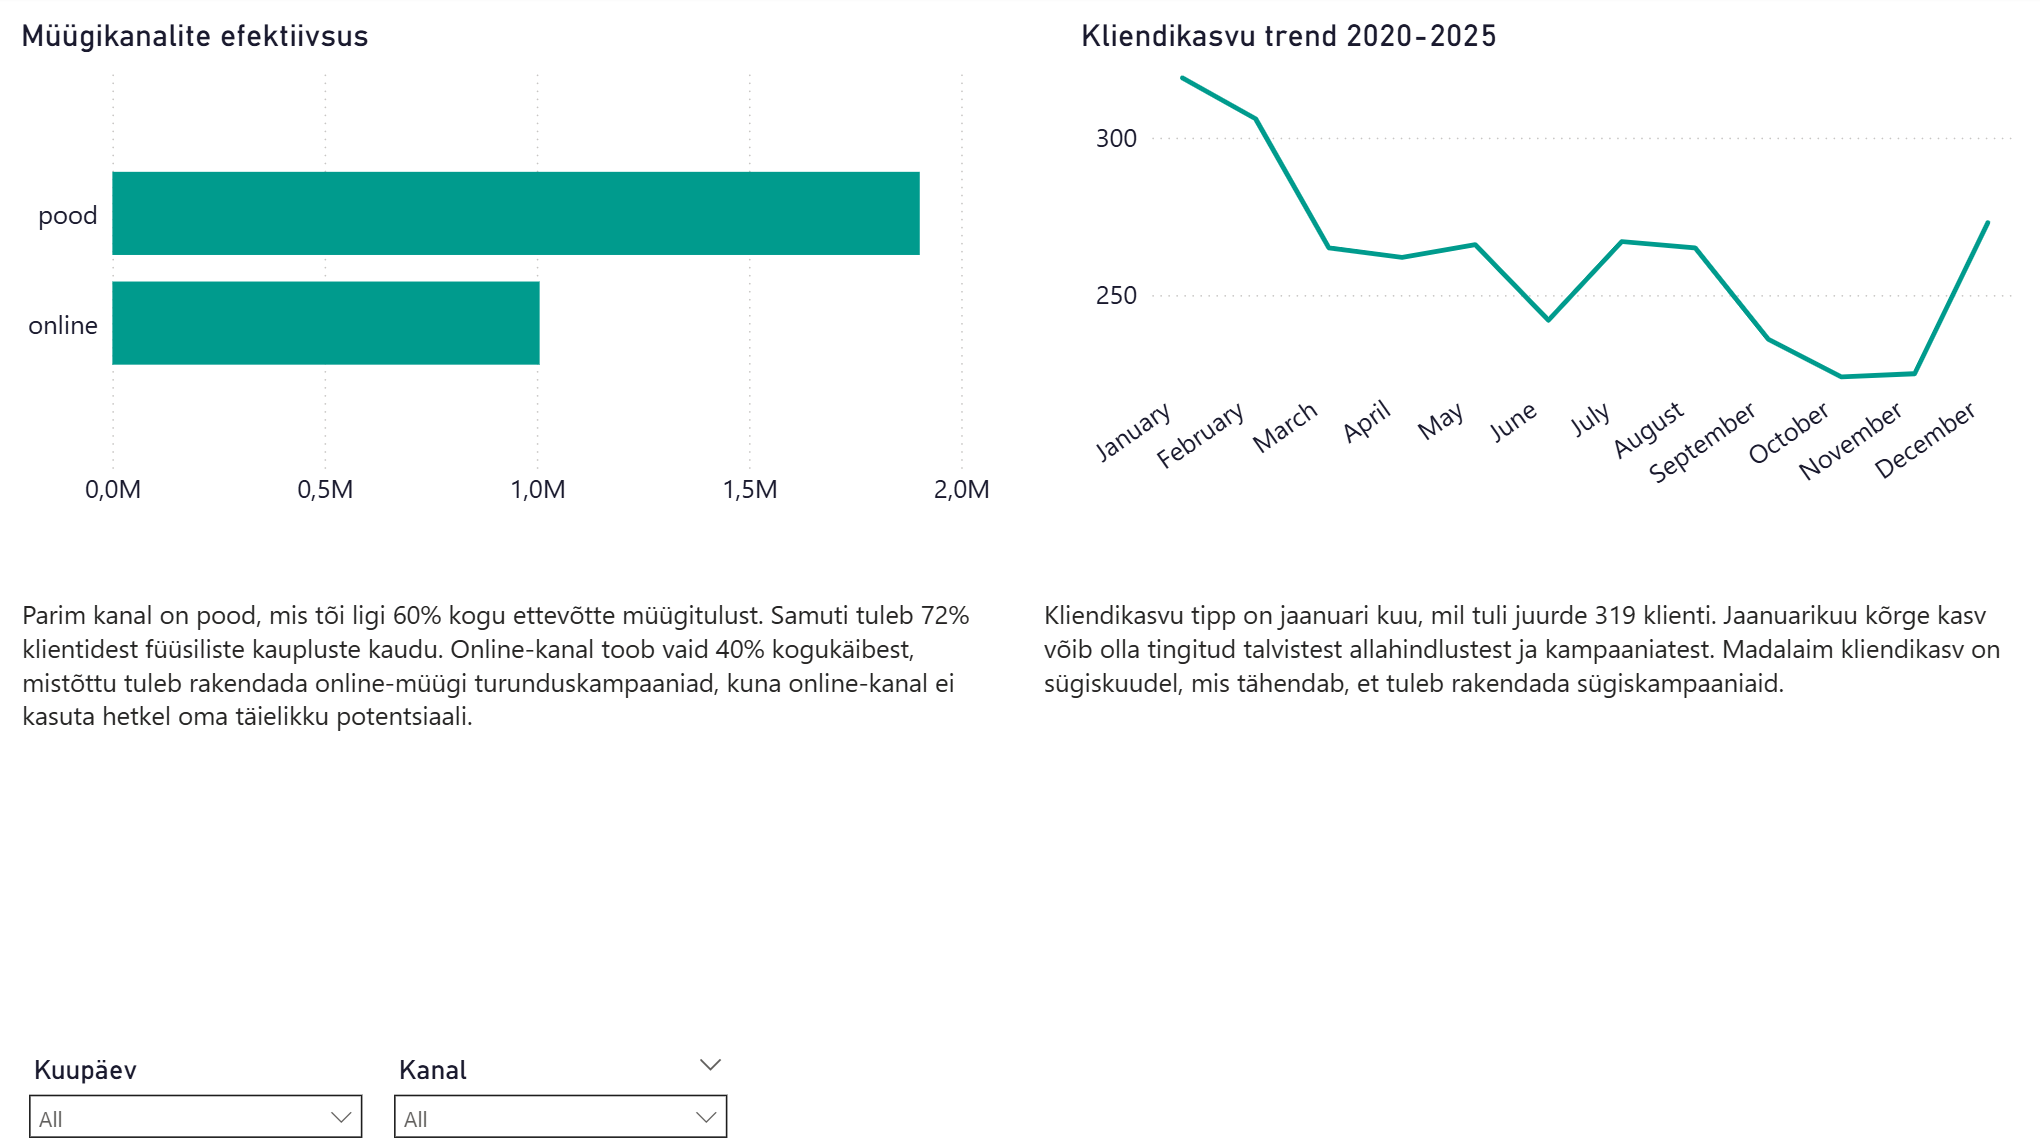

This screenshot's page, from the dashboard's own definition file:
{"tool":"powerbi","page":{"name":"Page 2","canvas":[1280,720],"ordinal":0},"visuals":[{"type":"clusteredBarChart","title":"Müügikanalite efektiivsus","fields":{"Y":["Sum(public sales.total_price)"],"Category":["public sales.channel"]},"box":[12.1,12.9,614.6,316.4],"z":0},{"type":"lineChart","title":"Kliendikasvu trend 2020-2025","fields":{"Category":["public customers.registration_date.Variation.Date Hierarchy.Year","public customers.registration_date.Variation.Date Hierarchy.Quarter","public customers.registration_date.Variation.Date Hierarchy.Month","public customers.registration_date.Variation.Date Hierarchy.Day"],"Y":["Count(public customers.customer_id)"]},"box":[673,12.9,594.1,316.4],"z":1000},{"type":"textbox","box":[12.5,370,630,130],"z":2000},{"type":"slicer","fields":{"Values":["public sales.sale_date"]},"box":[12.1,654.8,227.6,65.3],"z":3000},{"type":"slicer","fields":{"Values":["public sales.channel"]},"box":[239.8,654.8,227.6,65.3],"z":4000},{"type":"textbox","box":[650.2,370.3,629.8,129.7],"z":5000}]}

Visuals, with their boxes in screenshot pixels (x1, y1, x2, y2), scaled from the page's 1280x720 canvas onto the 2040x1144 screenshot:
"Müügikanalite efektiivsus" clusteredBarChart: [19, 20, 999, 523]
"Kliendikasvu trend 2020-2025" lineChart: [1073, 20, 2019, 523]
textbox: [20, 588, 1024, 794]
slicer - public sales.sale_date: [19, 1040, 382, 1143]
slicer - public sales.channel: [382, 1040, 745, 1143]
textbox: [1036, 588, 2039, 794]
